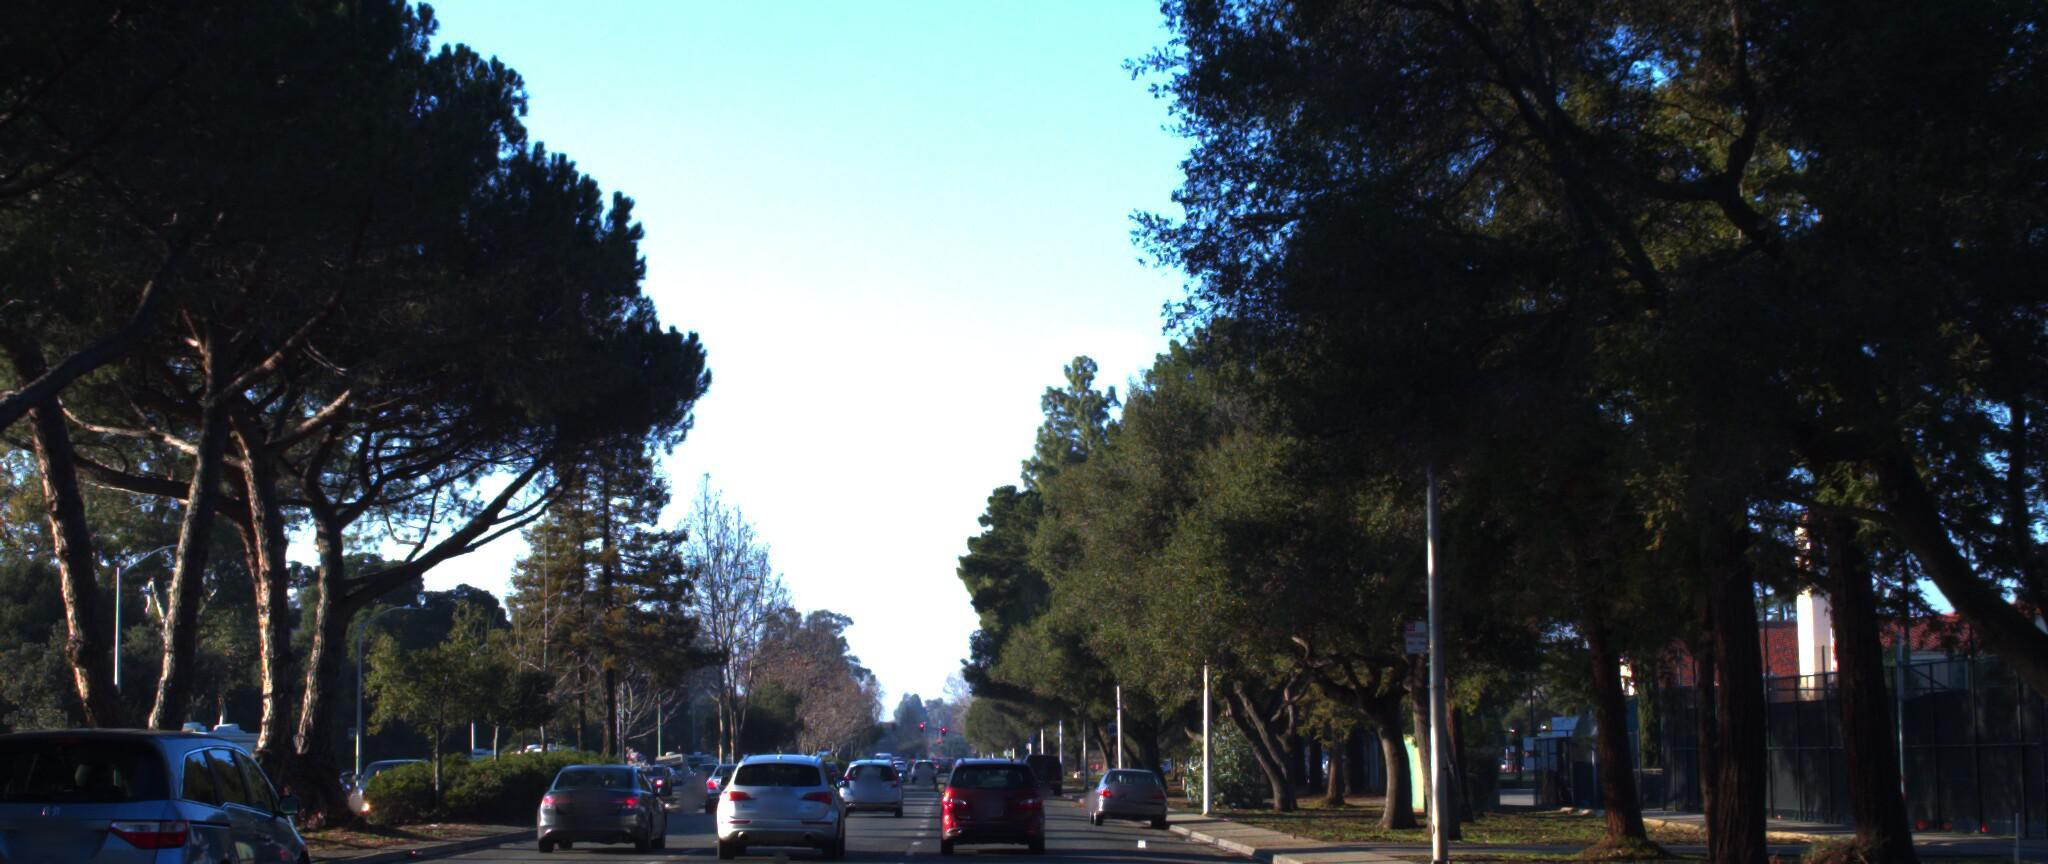car: (0, 726, 333, 864), (708, 743, 842, 857), (532, 744, 667, 843), (936, 754, 1048, 851), (1091, 752, 1166, 810), (842, 744, 909, 805)
other_vehicle: (0, 727, 56, 842)
